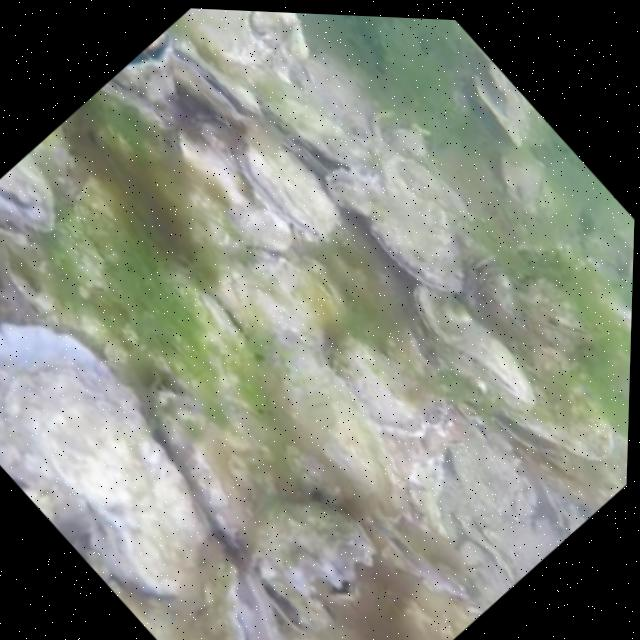Oyster-Closed: (0, 323, 209, 595), (366, 143, 466, 295), (413, 283, 535, 406), (95, 113, 191, 256), (335, 341, 448, 438), (239, 133, 338, 237), (74, 177, 123, 266), (528, 280, 590, 341), (327, 167, 371, 213), (0, 219, 29, 246)
Oyster-Indeterminate: (422, 333, 616, 459), (263, 337, 398, 518), (213, 250, 333, 349), (260, 89, 373, 173), (177, 8, 256, 63), (248, 11, 300, 63)
Oyster-Open: (245, 497, 372, 594), (470, 41, 550, 146), (174, 43, 263, 121), (208, 552, 278, 640), (0, 159, 56, 230), (113, 32, 174, 97), (262, 575, 319, 633)
